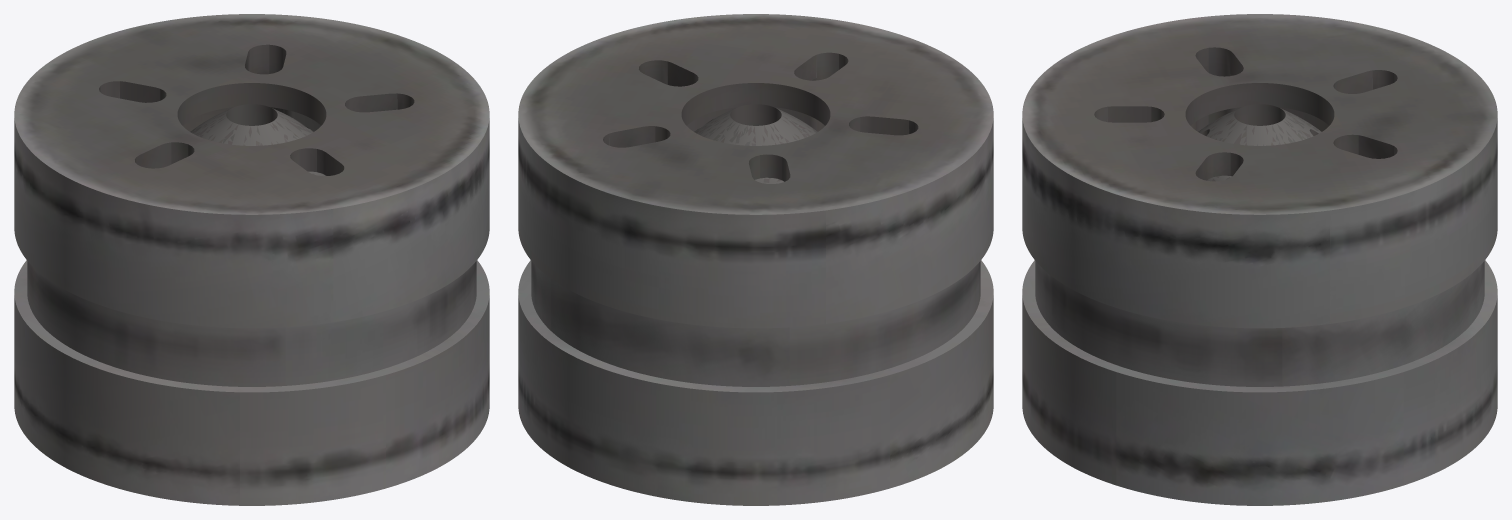
The model's file is wheel_0__rim.glb.
3 renders of one model, left to right at view 1: azimuth 30°, elevation 25°; view 2: azimuth 150°, elevation 25°; view 3: azimuth 270°, elevation 25°, orthographic.
Parts seen in each view (by area): view 1: world; view 2: world; view 3: world.
Part boxes in pixels (x1,y1,x2,y2): world: [14, 14, 489, 505]; world: [518, 14, 993, 505]; world: [1022, 14, 1497, 505].
Size of the model in its own units: 0.074 by 0.05 by 0.074.
Materials: 1 (1 with a texture image).
